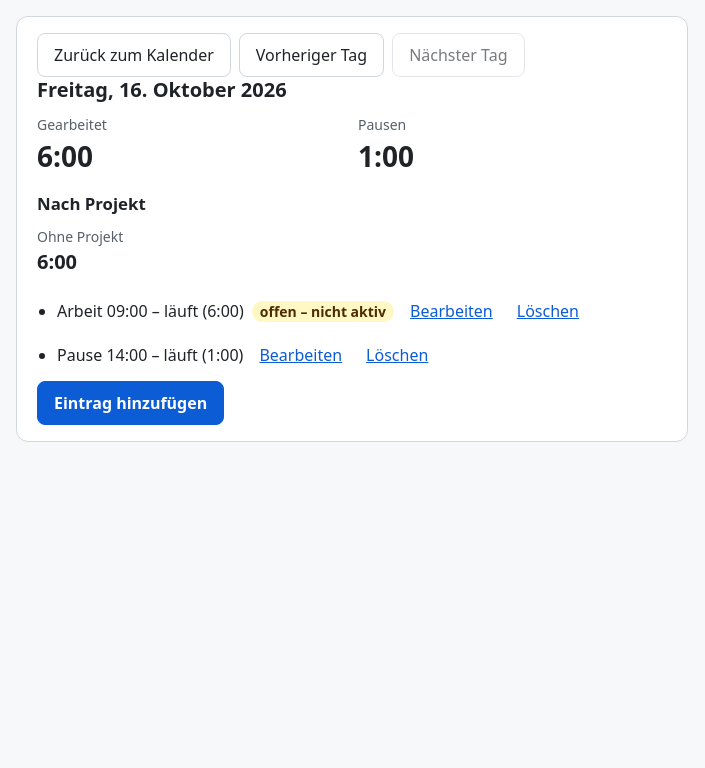
Test: DayDetailView › deleting the active open entry makes the other open entry active
Expected: the text "offen – nicht aktiv" is shown, 252,301 -> 394,322
Click the button "Löschen" in the row of "Pause 14:00 – läuft (1:00)" at [397, 355], box 358,337 -> 436,373
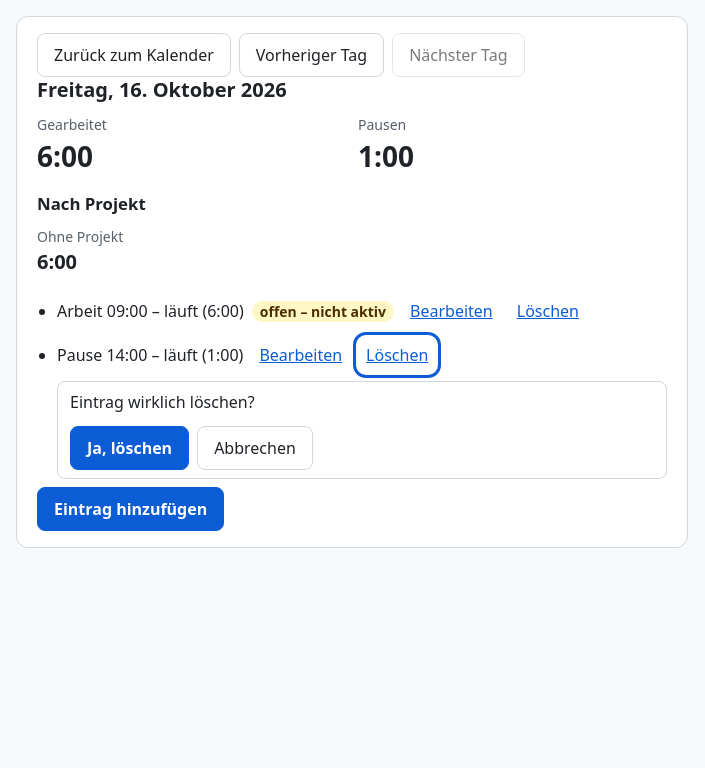
Click the button "Ja, löschen" at [130, 448], box 70,426 -> 189,470
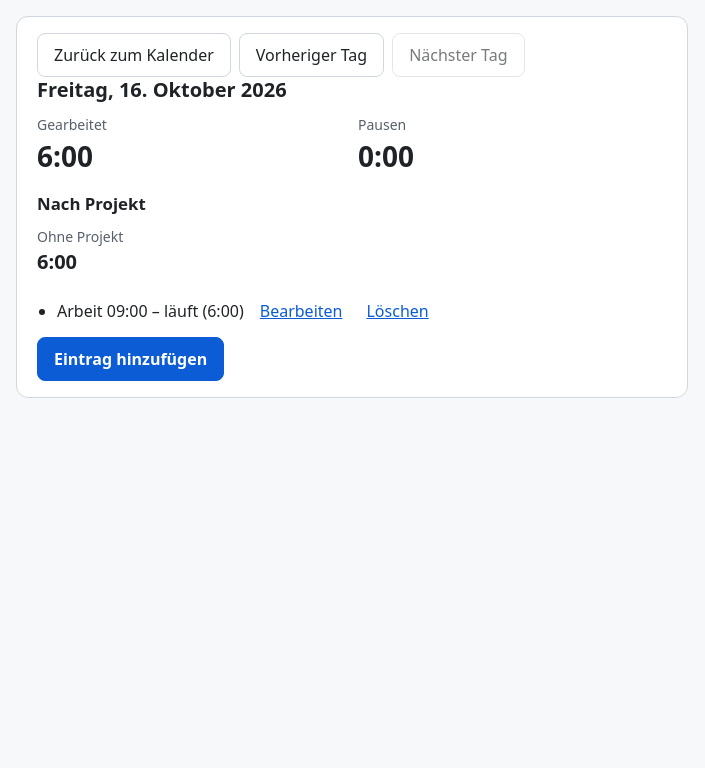
Result: the text "Pause 14:00" is gone
Result: the text "offen – nicht aktiv" is gone
Click the button "Bearbeiten" at [301, 311], box 252,293 -> 350,329
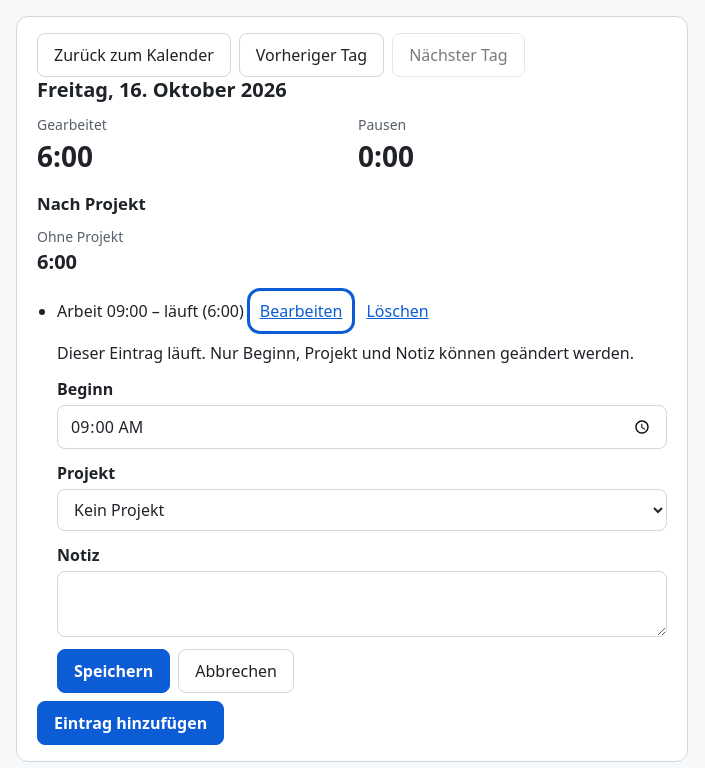
Result: the text "Dieser Eintrag läuft. Nur Beginn, Projekt und Notiz können geändert werden." is shown at 57,341 -> 667,365
